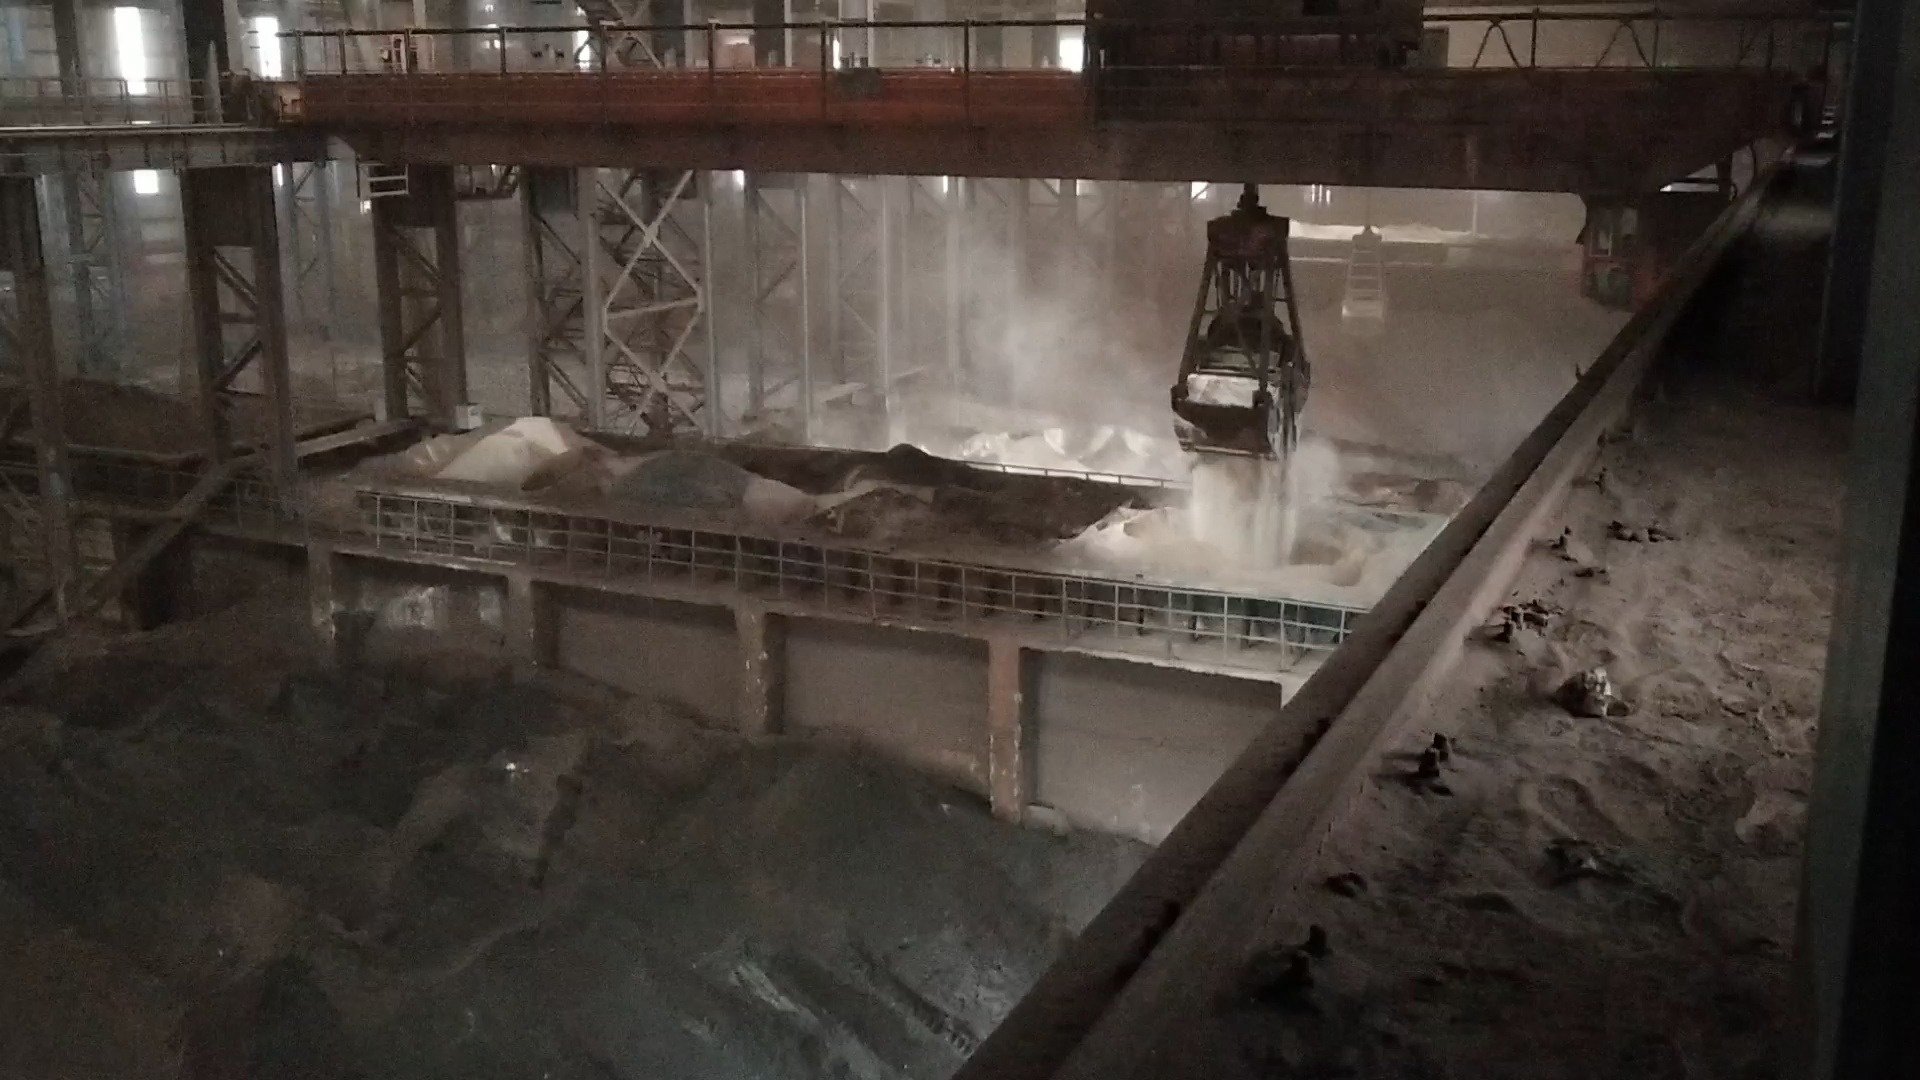dust: (827, 196, 1578, 592)
grab: (1159, 179, 1316, 465)
